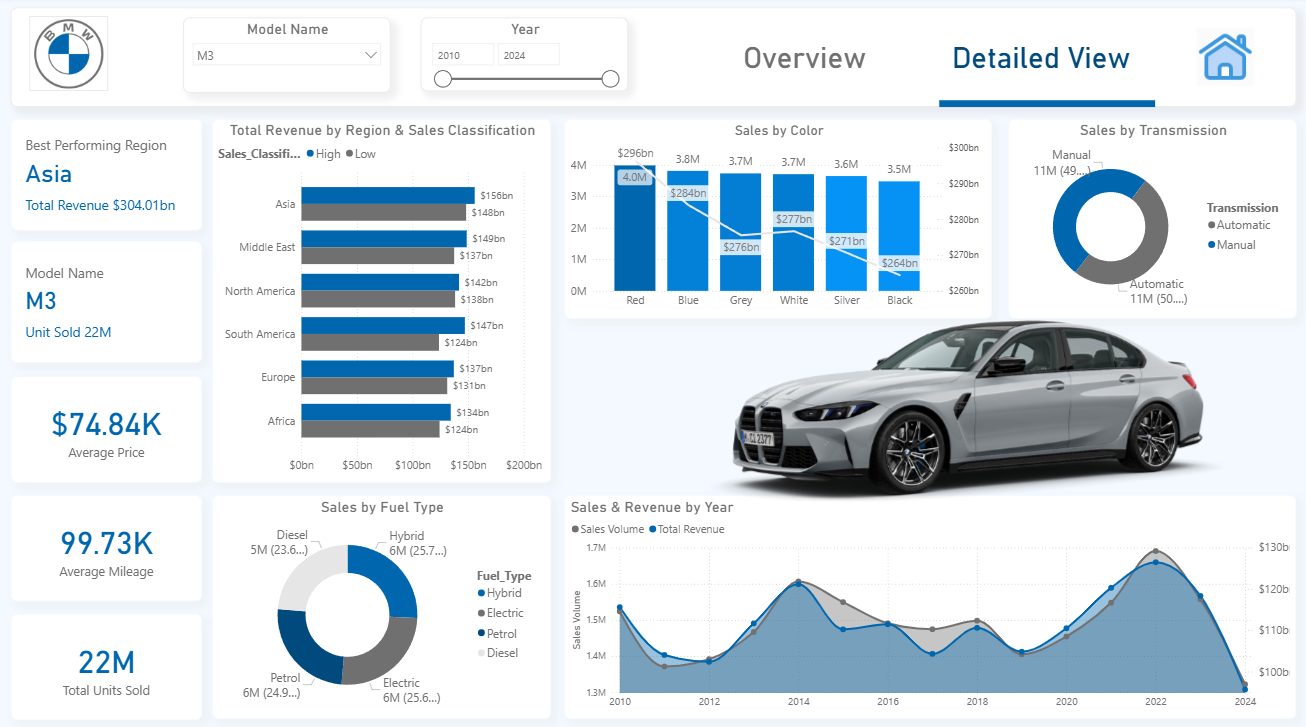

The page's visual inventory and layout, read from the dashboard file:
{"tool":"powerbi","page":{"name":"Detailed View","canvas":[1920,1080],"ordinal":2},"visuals":[{"type":"cardVisual","fields":{"Data":["Min(BMW_Car_Sales_Classification.Region)"]},"box":[18.5,179.1,282,164.7],"z":0},{"type":"card","fields":{"Values":["Measures Table.Average Price"]},"box":[18.5,557.8,282,156.4],"z":1000},{"type":"cardVisual","fields":{"Data":["Min(BMW_Car_Sales_Classification.Model)"]},"box":[18.5,360.2,282,179.1],"z":2000},{"type":"card","fields":{"Values":["Measures Table.Average Mileage"]},"box":[18.5,732.8,282,156.4],"z":3000},{"type":"shape","box":[18.5,16.5,1887.5,146.1],"z":4000},{"type":"card","fields":{"Values":["Measures Table.Total Units Sold"]},"box":[18.5,905.7,282,156.4],"z":5000},{"type":"image","box":[45.3,28.8,115.3,111.1],"z":6000},{"type":"textbox","box":[1035.3,59.7,298.5,80.3],"z":7000},{"type":"shape","box":[1381.1,113,317,88.5],"z":8000},{"type":"textbox","box":[1362.6,59.7,335.5,80.3],"z":9000},{"type":"image","box":[1751.6,35,98.8,109.1],"z":10000},{"type":"lineChart","title":"Sales & Revenue by Year","fields":{"Category":["BMW_Car_Sales_Classification.Year"],"Y":["Sum(BMW_Car_Sales_Classification.Sales_Volume)"],"Y2":["Measures Table.Total Revenue"]},"box":[831.6,732.8,1074.4,329.3],"z":11000},{"type":"lineStackedColumnComboChart","title":"Sales by Color","fields":{"Category":["BMW_Car_Sales_Classification.Color"],"Y":["Sum(BMW_Car_Sales_Classification.Sales_Volume)"],"Y2":["Measures Table.Total Revenue"]},"box":[831.6,179.1,627.8,294.3],"z":12000},{"type":"donutChart","title":"Sales by Fuel Type","fields":{"Category":["BMW_Car_Sales_Classification.Fuel_Type"],"Y":["Sum(BMW_Car_Sales_Classification.Sales_Volume)"]},"box":[312.9,732.8,498.1,329.3],"z":13000},{"type":"slicer","title":"Model Name","fields":{"Values":["BMW_Car_Sales_Classification.Model"]},"box":[271.7,30.9,304.6,111.1],"z":14000},{"type":"slicer","title":"Year","fields":{"Values":["BMW_Car_Sales_Classification.Year"]},"box":[619.6,30.9,304.6,109.1],"z":15000},{"type":"shape","box":[1035.3,20.6,298.5,144.1],"z":16000},{"type":"clusteredBarChart","title":"Total Revenue by Region & Sales Classification","fields":{"Category":["BMW_Car_Sales_Classification.Region"],"Y":["Measures Table.Total Revenue"],"Series":["BMW_Car_Sales_Classification.Sales_Classification"]},"box":[312.9,179.1,498.1,535.2],"z":17000},{"type":"donutChart","title":"Sales by Transmission","fields":{"Category":["BMW_Car_Sales_Classification.Transmission"],"Y":["Sum(BMW_Car_Sales_Classification.Sales_Volume)"]},"box":[1482,179.1,424,294.3],"z":18000},{"type":"imageDB603108E3FF4EBFB8047F5653368E8C","fields":{"imageUrl":["BMW Images.URL"],"imageTitle":["BMW_Car_Sales_Classification.Model"]},"box":[983.9,360.2,922.1,428.1],"z":19000}]}

Visuals, with their boxes in screenshot pixels (x1, y1, x2, y2), scaled from the page's 1920x1080 canvas onto the 1306x727 screenshot:
cardVisual - Min(BMW_Car_Sales_Classification.Region): box=[13, 121, 204, 231]
card - Measures Table.Average Price: box=[13, 375, 204, 481]
cardVisual - Min(BMW_Car_Sales_Classification.Model): box=[13, 242, 204, 363]
card - Measures Table.Average Mileage: box=[13, 493, 204, 599]
shape: box=[13, 11, 1296, 109]
card - Measures Table.Total Units Sold: box=[13, 610, 204, 715]
image: box=[31, 19, 109, 94]
textbox: box=[704, 40, 907, 94]
shape: box=[939, 76, 1155, 136]
textbox: box=[927, 40, 1155, 94]
image: box=[1191, 24, 1259, 97]
"Sales & Revenue by Year" lineChart: box=[566, 493, 1296, 715]
"Sales by Color" lineStackedColumnComboChart: box=[566, 121, 993, 319]
"Sales by Fuel Type" donutChart: box=[213, 493, 552, 715]
"Model Name" slicer: box=[185, 21, 392, 96]
"Year" slicer: box=[421, 21, 629, 94]
shape: box=[704, 14, 907, 111]
"Total Revenue by Region & Sales Classification" clusteredBarChart: box=[213, 121, 552, 481]
"Sales by Transmission" donutChart: box=[1008, 121, 1296, 319]
imageDB603108E3FF4EBFB8047F5653368E8C - BMW Images.URL x BMW_Car_Sales_Classification.Model: box=[669, 242, 1296, 531]
